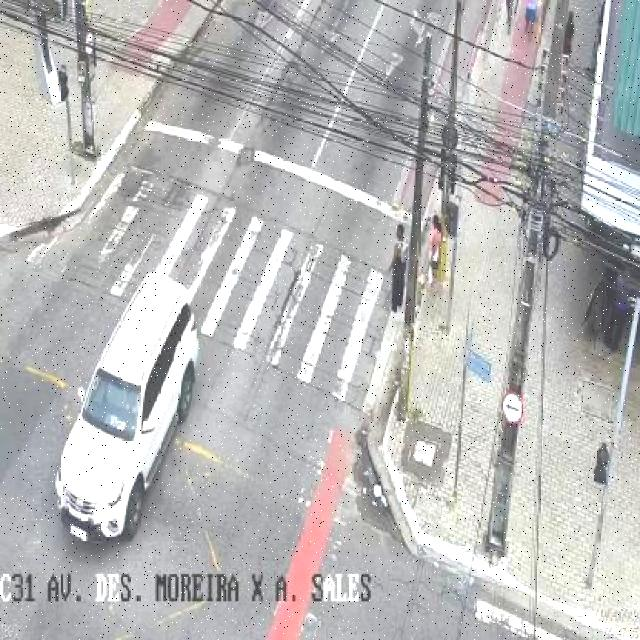Car: (49, 269, 200, 544)
